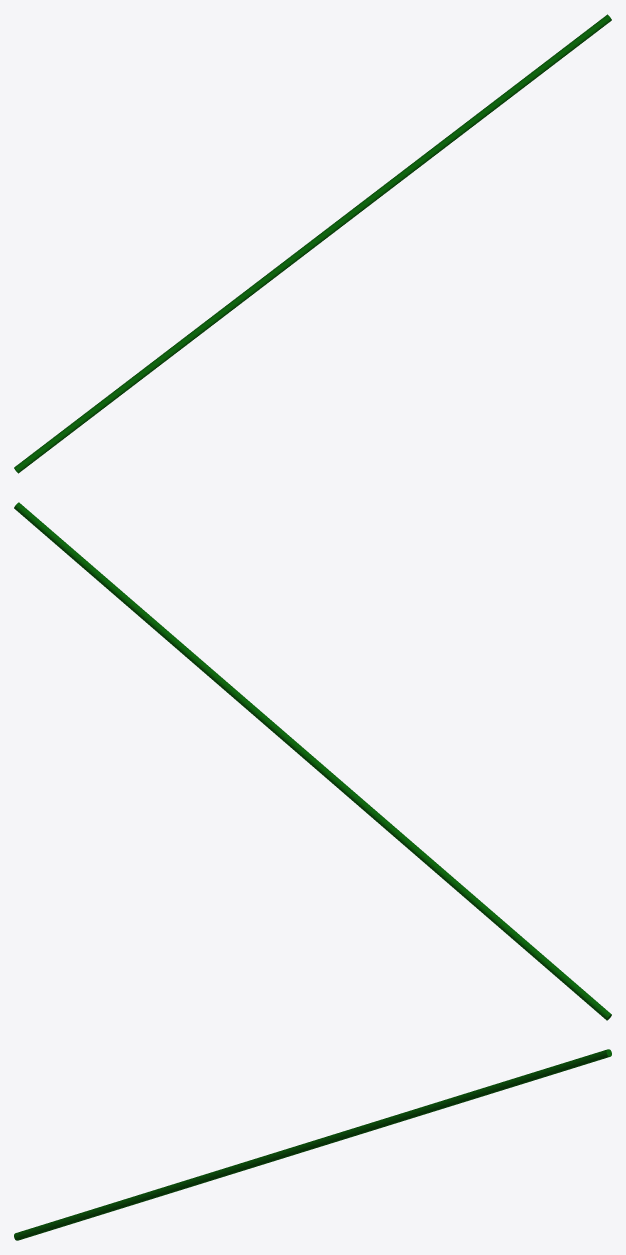
File: Event_108764385_jet_1.fbx
The picture shows the model from 3 angles, top to bottom: view 1: azimuth 30°, elevation 25°; view 2: azimuth 150°, elevation 25°; view 3: azimuth 330°, elevation 25°; orthographic projection. The views are drawn at different scales.
Parts seen in each view (by area): view 1: Model; view 2: Model; view 3: Model.
Part boxes in pixels (x1=…): Model: x1=14, y1=14, x2=611, y2=473; Model: x1=14, y1=502, x2=611, y2=1020; Model: x1=14, y1=1049, x2=611, y2=1240.
Bounding box in the file's own units: 3.59 × 1.97 × 0.2408.
